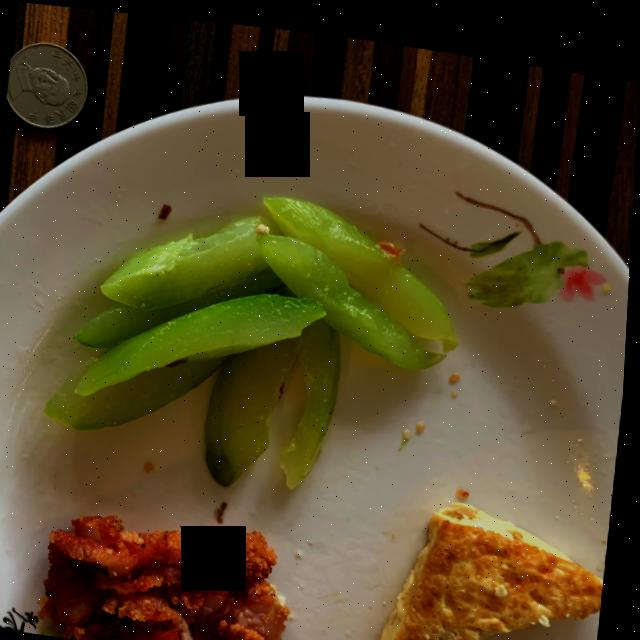coin: (7, 42, 89, 128)
red grilled pork: (50, 513, 295, 640)
